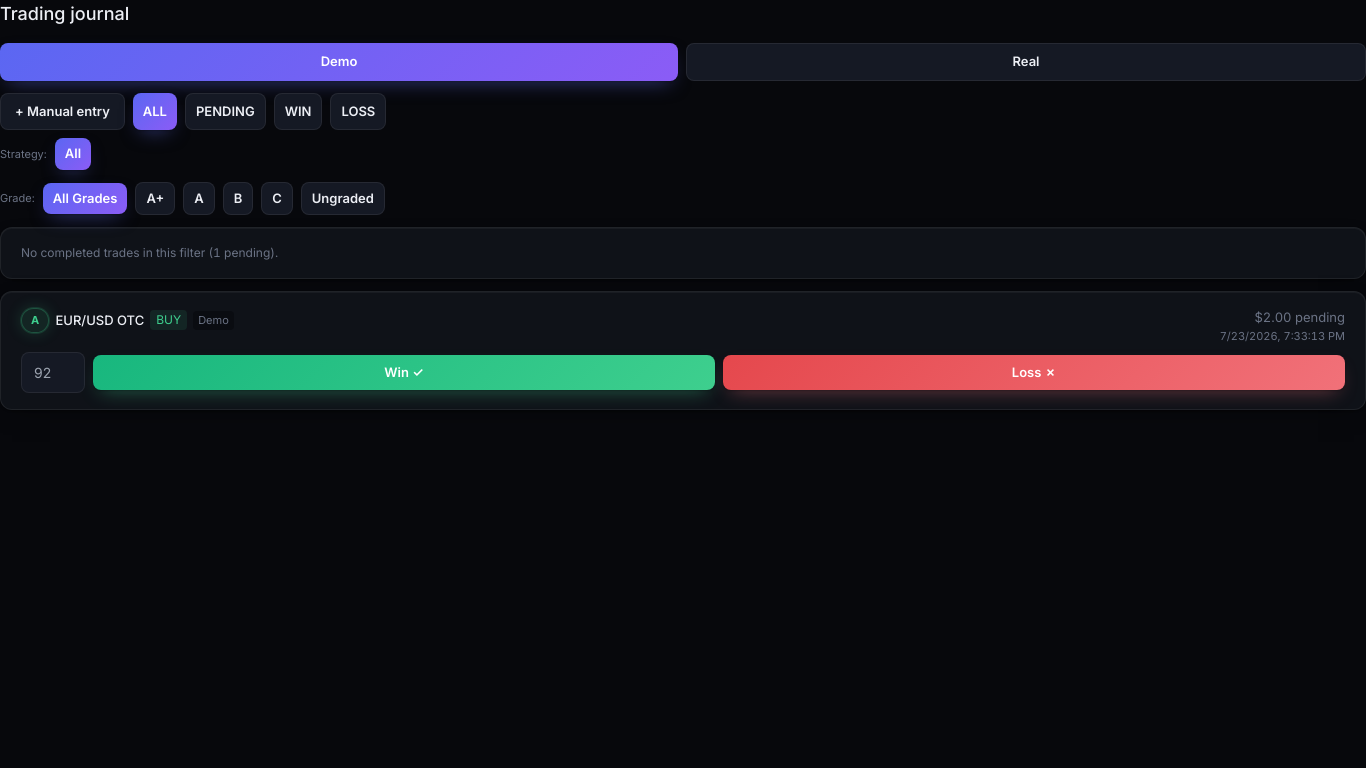
Test: lets you correct the direction and outcome on a saved journal entry, recalculating P&L
Step 1. Click the text "EUR/USD OTC" → {"x": 100, "y": 320}, box [55,310,144,330]
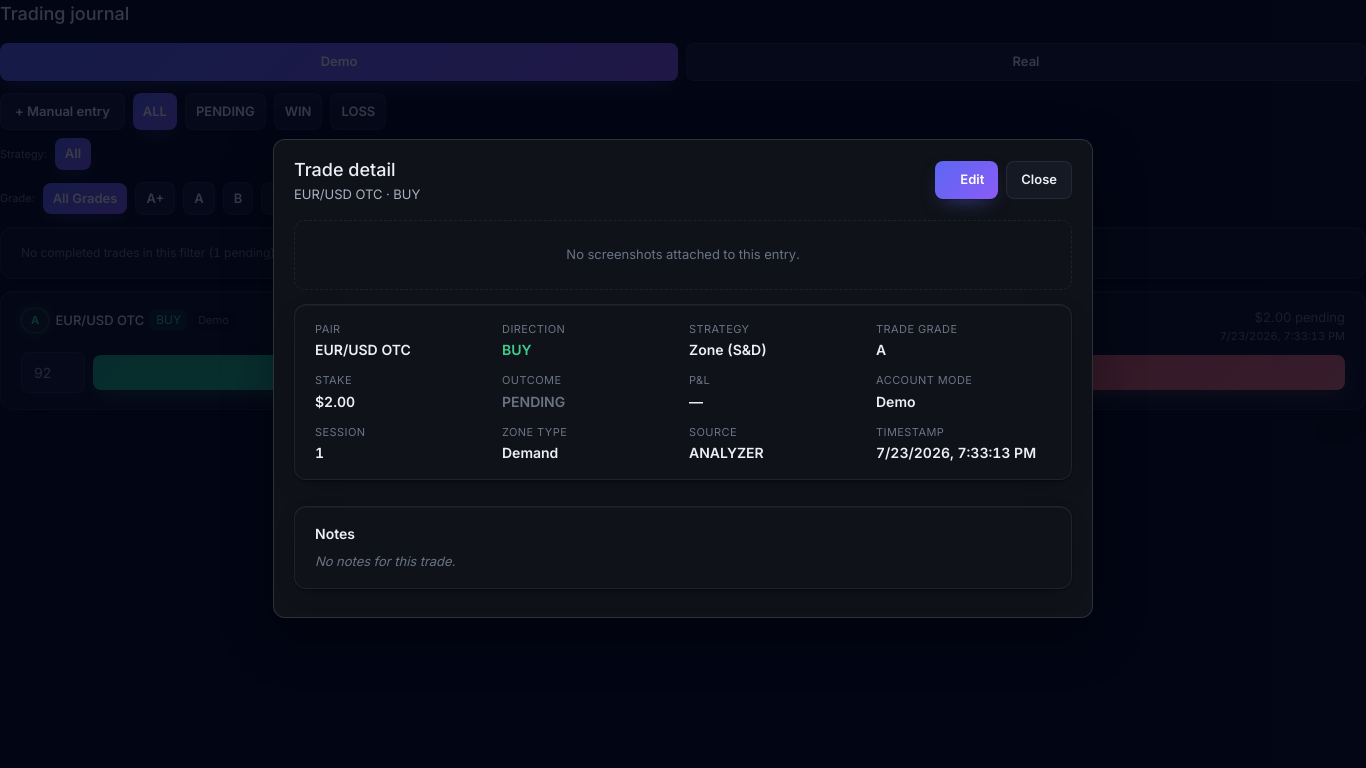
Step 2. Click the button "Edit" → {"x": 967, "y": 180}, box [935,161,998,198]
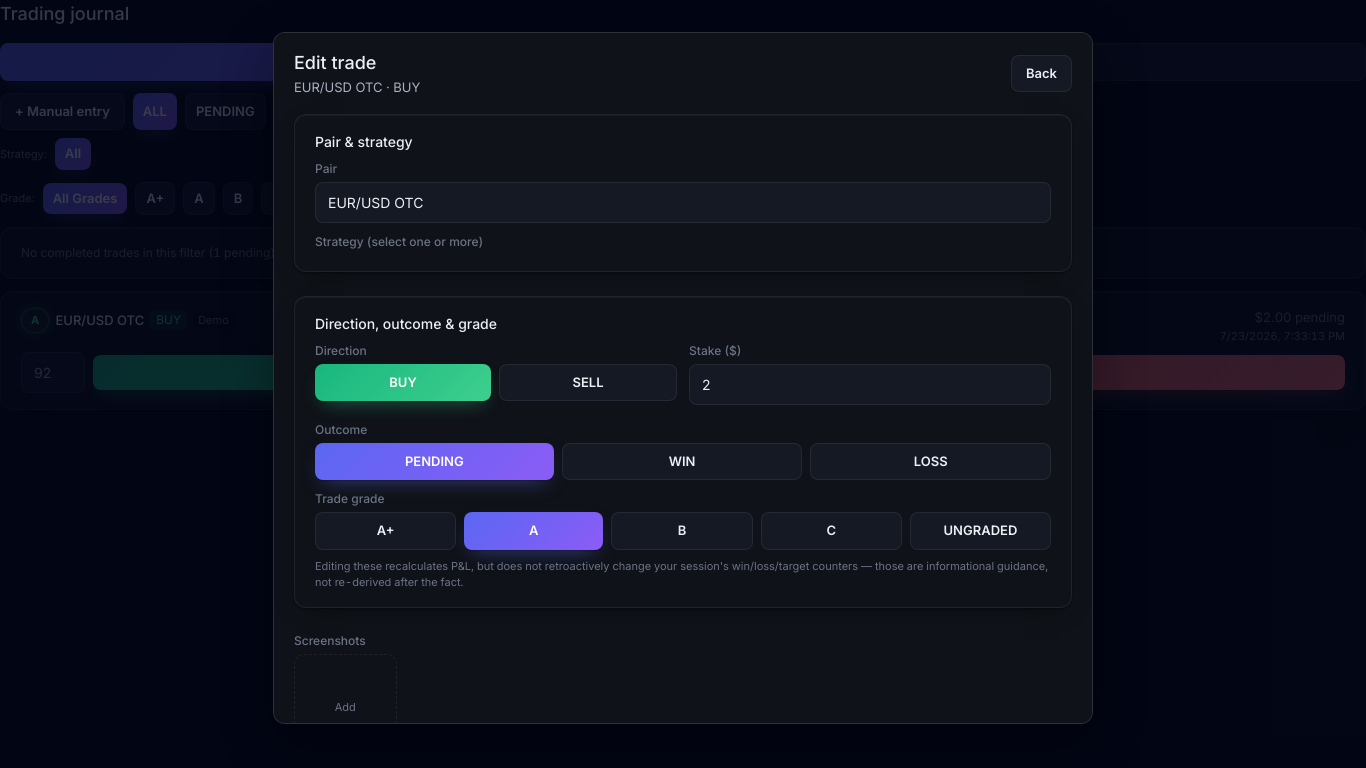
Step 3. Click the button "SELL" → {"x": 588, "y": 383}, box [499,364,677,401]
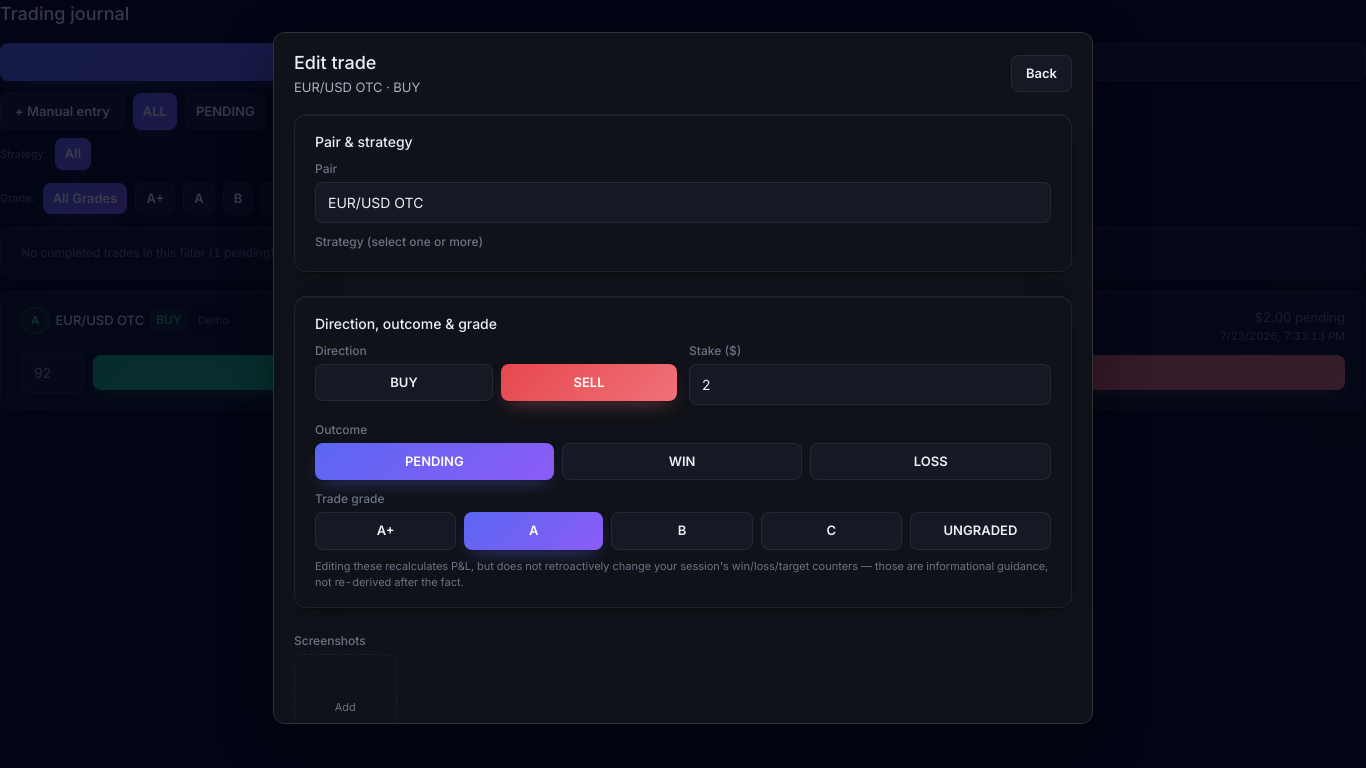
Step 4. Click the button "WIN" → {"x": 682, "y": 462}, box [562,443,802,480]
(page scrolled)
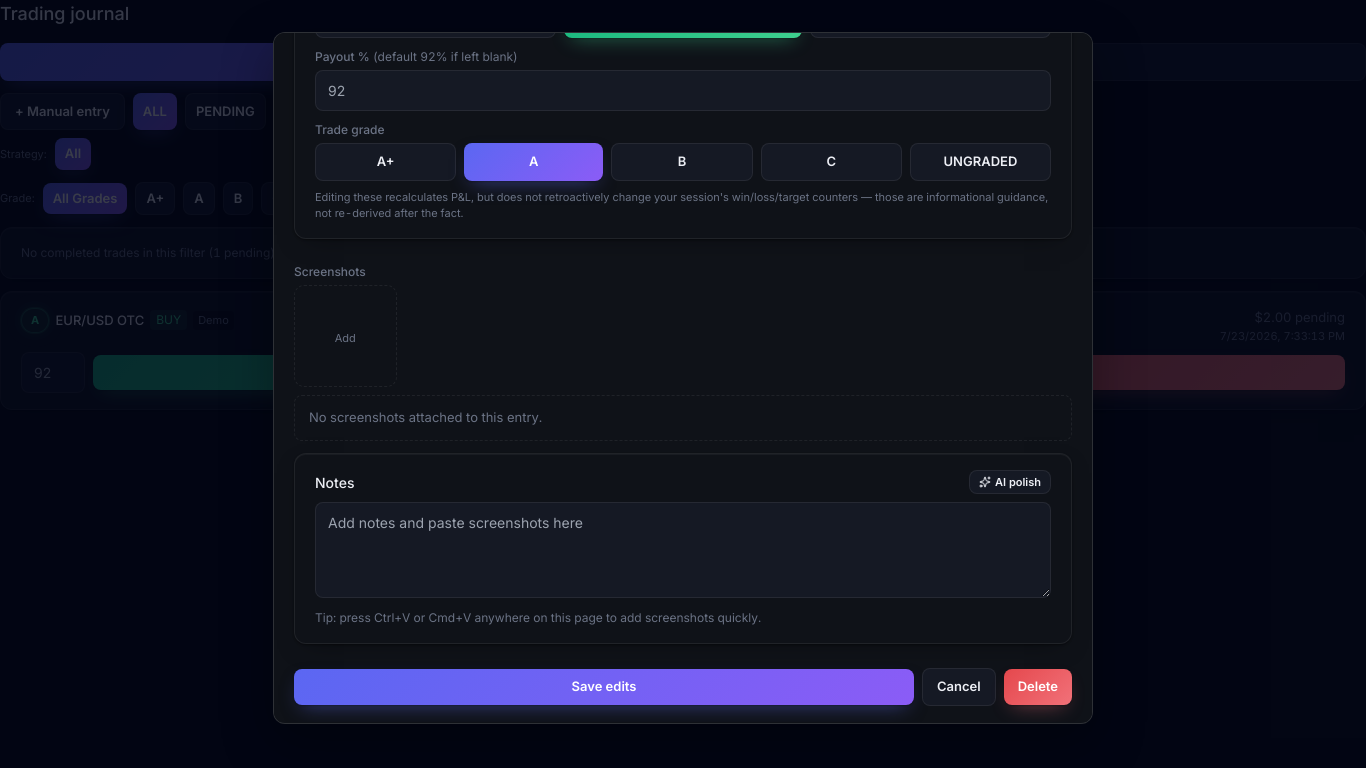
Step 5. Click the button "Save edits" → {"x": 604, "y": 687}, box [294,670,914,705]
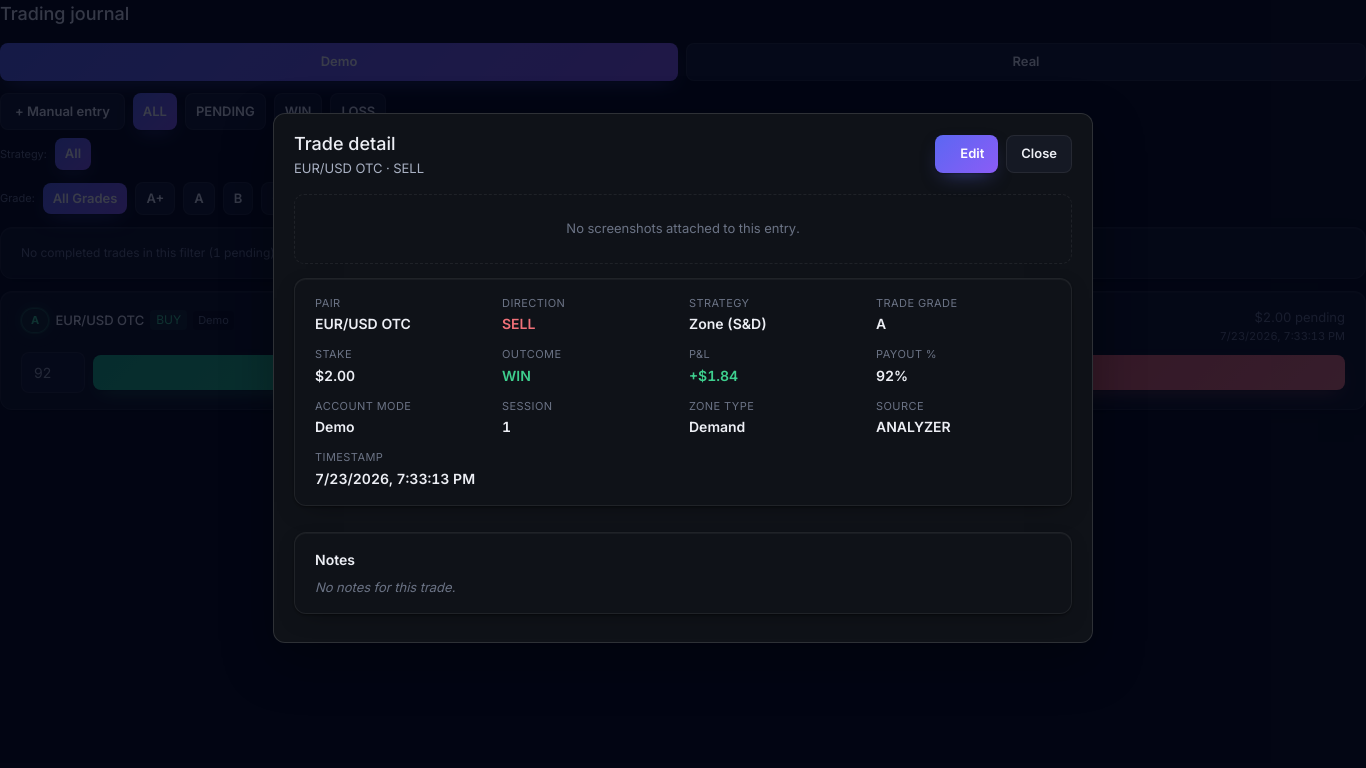
Expected: the button "WIN" is shown, [274,92,322,130]
Expected: the text "SELL" is shown, [502,315,535,332]
